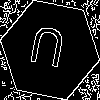U: (25, 25, 68, 77)
